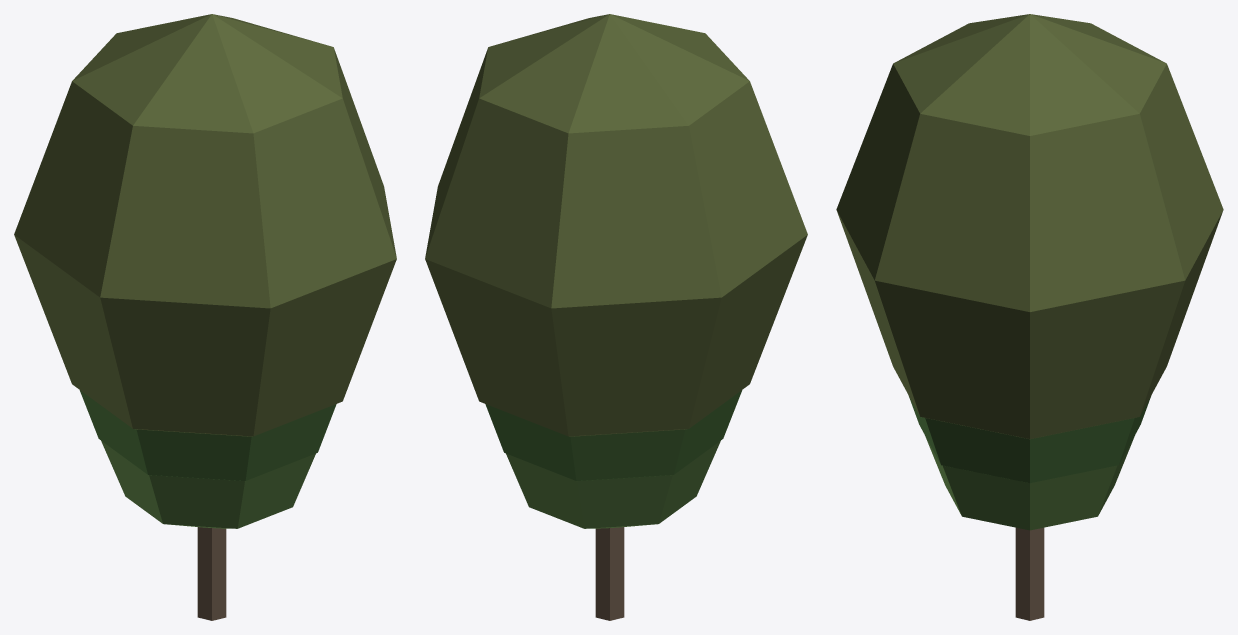
The model's file is assets.glb.
3 views of the same model, side by side, from view 1: azimuth 30°, elevation 25°; view 2: azimuth 150°, elevation 25°; view 3: azimuth 270°, elevation 25° (orthographic).
Visible parts, largest first — view 1: TreeAsset_2, TreeAsset_0, TreeAsset_1; view 2: TreeAsset_2, TreeAsset_0, TreeAsset_1; view 3: TreeAsset_2, TreeAsset_0, TreeAsset_1.
Boxes of the visible parts, x1=… form: TreeAsset_2: x1=14, y1=14, x2=396, y2=620; TreeAsset_0: x1=79, y1=390, x2=336, y2=480; TreeAsset_1: x1=101, y1=441, x2=315, y2=528; TreeAsset_2: x1=425, y1=14, x2=807, y2=620; TreeAsset_0: x1=485, y1=390, x2=742, y2=480; TreeAsset_1: x1=506, y1=441, x2=720, y2=528; TreeAsset_2: x1=836, y1=14, x2=1223, y2=620; TreeAsset_0: x1=908, y1=395, x2=1151, y2=483; TreeAsset_1: x1=925, y1=437, x2=1134, y2=530.
Bounding box in the file's own units: 7.98 × 14 × 8.19.
